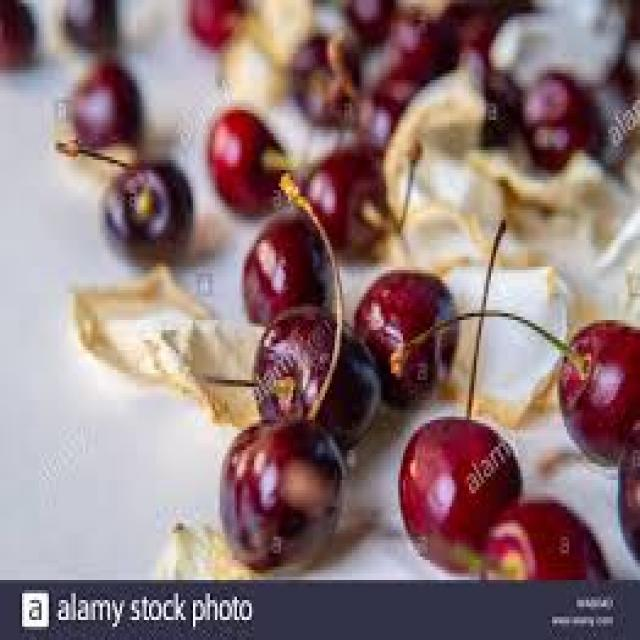organic waste: (396, 216, 520, 566), (386, 303, 638, 467), (71, 260, 259, 420), (442, 253, 564, 417), (217, 413, 342, 570), (469, 136, 638, 246), (252, 297, 378, 443), (54, 137, 190, 260), (388, 47, 479, 230), (418, 496, 608, 576), (352, 267, 457, 403), (242, 213, 330, 317), (296, 147, 384, 250), (515, 70, 601, 167), (149, 520, 256, 577), (291, 30, 359, 117), (212, 36, 290, 106), (386, 0, 452, 80), (71, 60, 137, 140), (244, 0, 312, 63), (337, 77, 401, 140), (454, 0, 517, 63), (364, 50, 420, 120), (474, 63, 518, 140), (616, 410, 638, 557), (59, 0, 117, 50), (0, 0, 37, 67), (342, 0, 391, 43), (188, 0, 239, 37)
